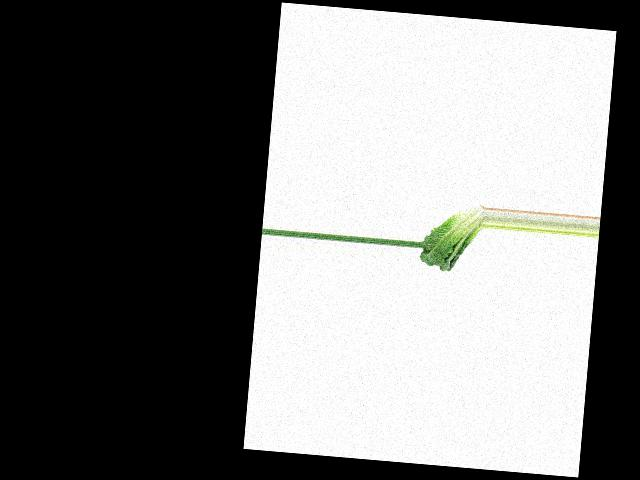lettuce: (419, 199, 485, 275)
